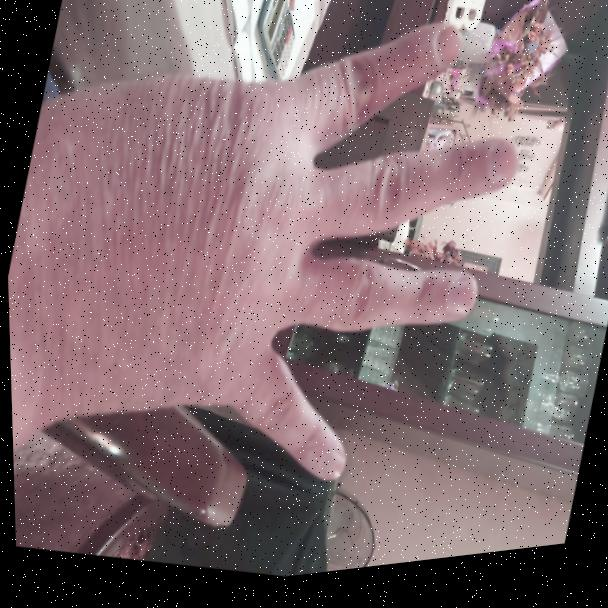four: (0, 0, 563, 565)
